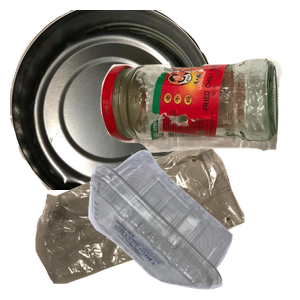glass: (98, 56, 300, 201)
metal: (10, 10, 221, 190)
plastic: (86, 147, 300, 300)
trash: (33, 145, 270, 300)
